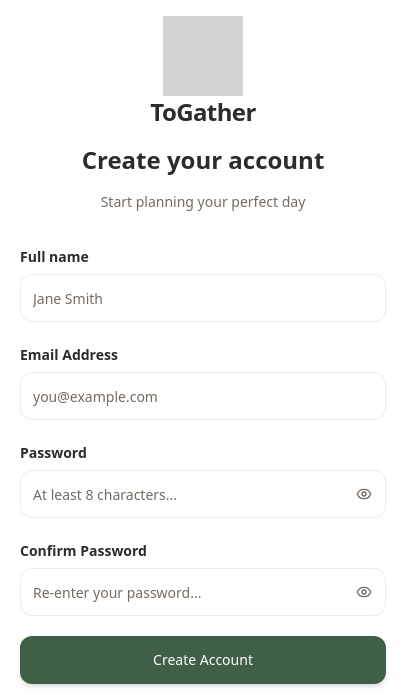
Signup Component - Input Validation Tests › shows error when password is empty and user tries to submit
Type "Test User" into the field labelled "Full name". click: (203, 298)
box: [20, 274, 386, 322]
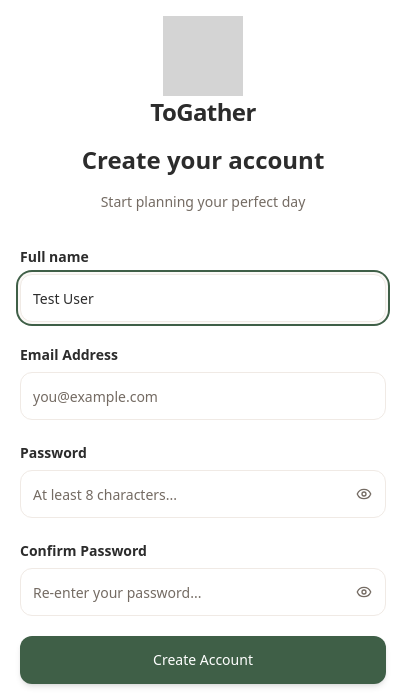
Type "test@test.com" into the field labelled "Email Address". click: (203, 396)
box: [20, 372, 386, 420]
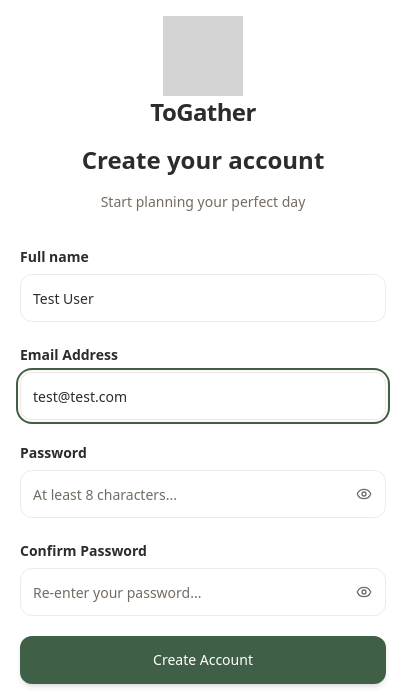
Type "testpassword1" into the password field labelled "Confirm Password". click: (203, 592)
box: [20, 568, 386, 616]
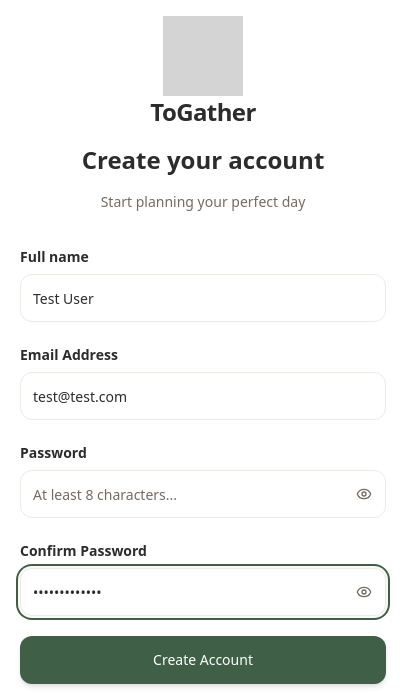
Click the button "Create Account". click: (203, 660)
box: [20, 636, 386, 684]
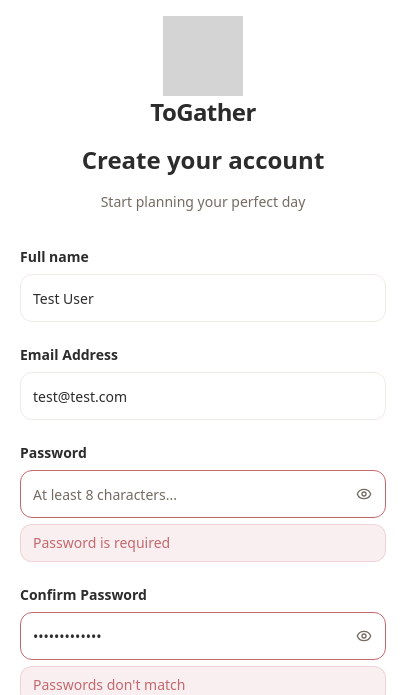
Result: the text "Password is required" is shown at [33, 533, 170, 552]
